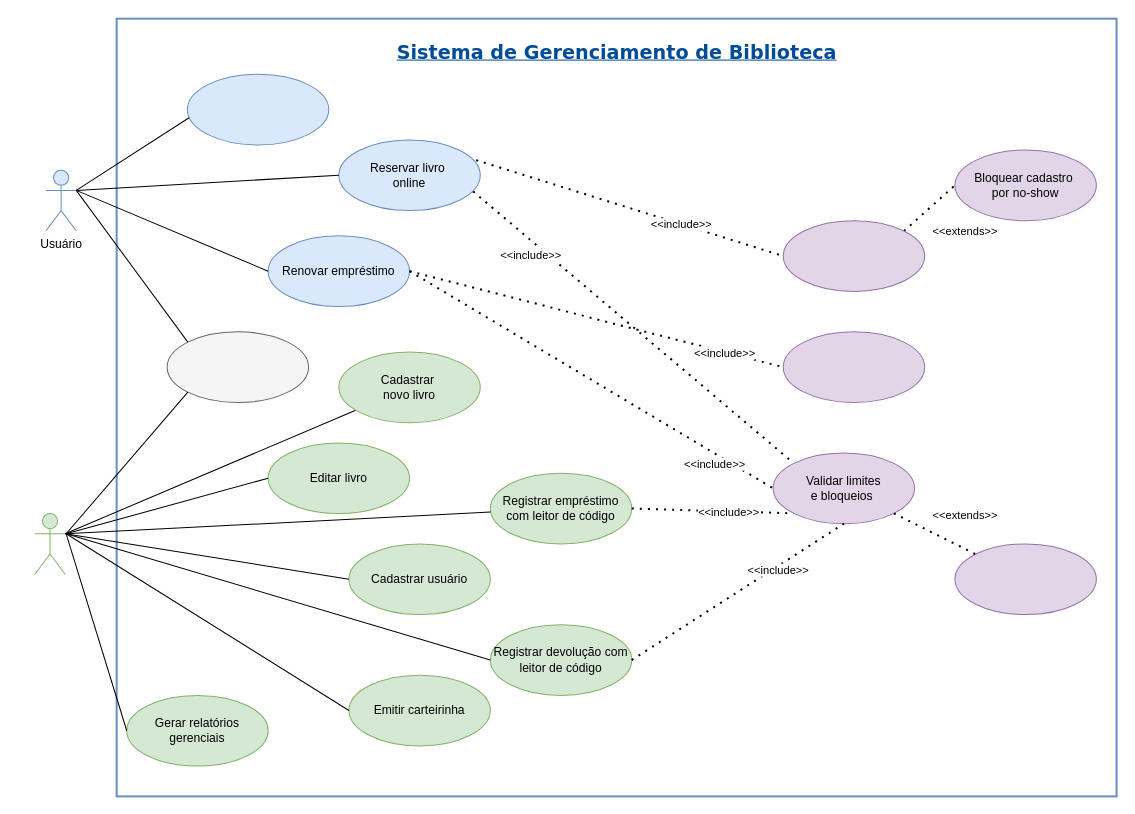
This 1135x814 diagram has some shape labels left out. Each missing label, with the centre of its shape:
"Acompanhar cronômetro de 24h" belongs at point 853,255.
"Bibliotecário" belongs at point 49,543.
"Bloquear por atraso" belongs at point 1025,579.
"Consultar catálogo online" belongs at point 257,109.
"Validar fila de espera" belongs at point 853,366.
"Visualizar detalhes e localização do livro" belongs at point 237,366.
